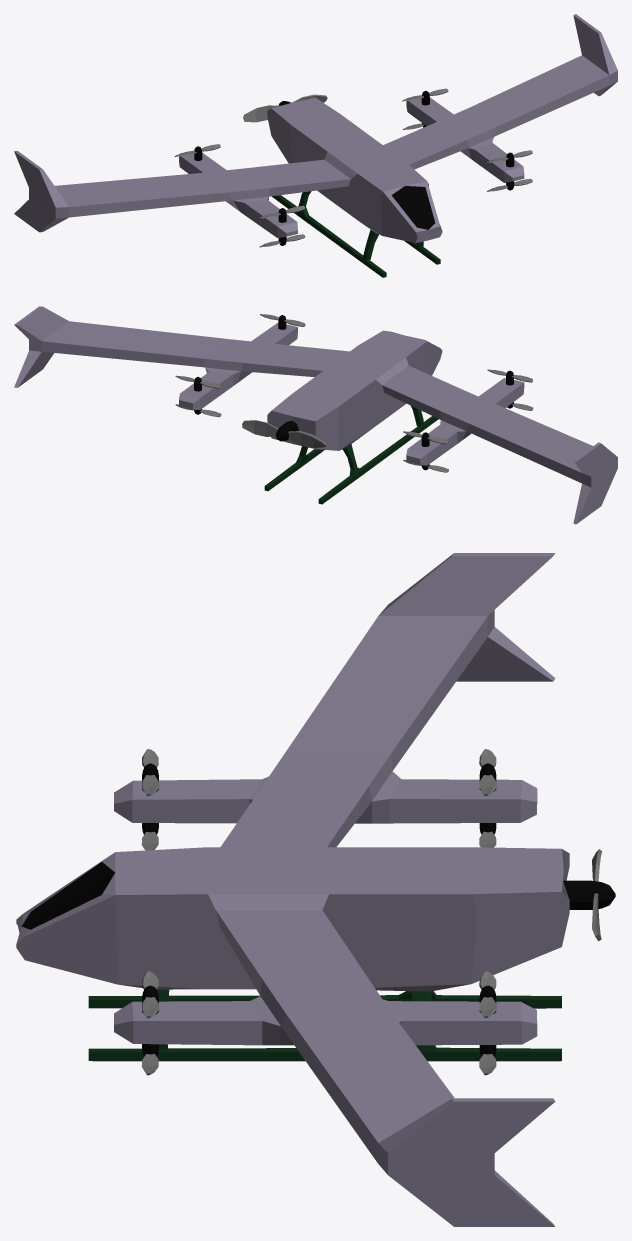
Rendered from drone.fbx.
3 renders of one model, top to bottom at view 1: azimuth 30°, elevation 25°; view 2: azimuth 150°, elevation 25°; view 3: azimuth 270°, elevation 25°, orthographic. The views are drawn at different scales.
Visible parts, largest first — view 1: Cube.001, Cylinder.008; view 2: Cube.001, Cylinder.008; view 3: Cube.001, Cylinder.008.
Part boxes in pixels (x1,y1,x2,y2): Cube.001: (14, 14, 617, 277); Cylinder.008: (243, 94, 327, 122); Cube.001: (14, 306, 617, 524); Cylinder.008: (242, 420, 326, 447); Cube.001: (16, 553, 569, 1226); Cylinder.008: (563, 849, 615, 941).
Bounding box in the file's own units: 1114 × 195 × 514.
